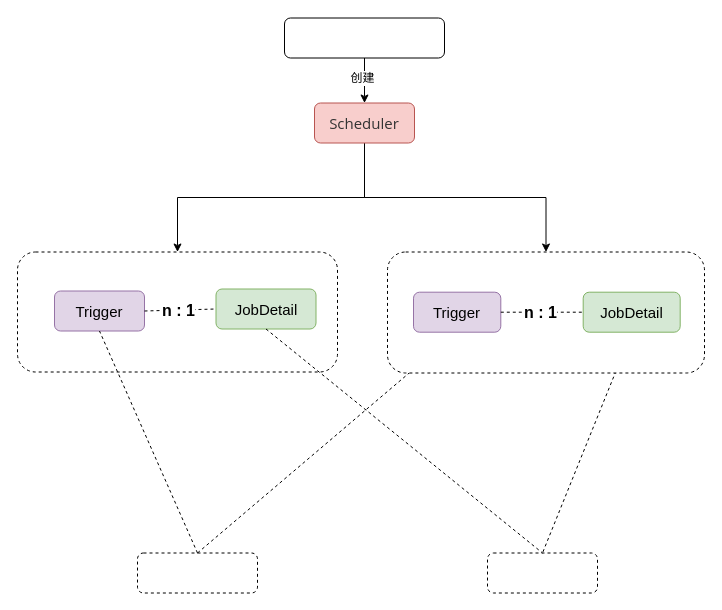
This 722x610 diagram has some shape labels left out. The box of each missing label's shape, as (x1, y1, x2, y2) in pixels:
JobGroup: (486, 552, 598, 593)
SchedulerFactory: (284, 17, 444, 58)
TiggerGroup: (136, 552, 258, 593)
